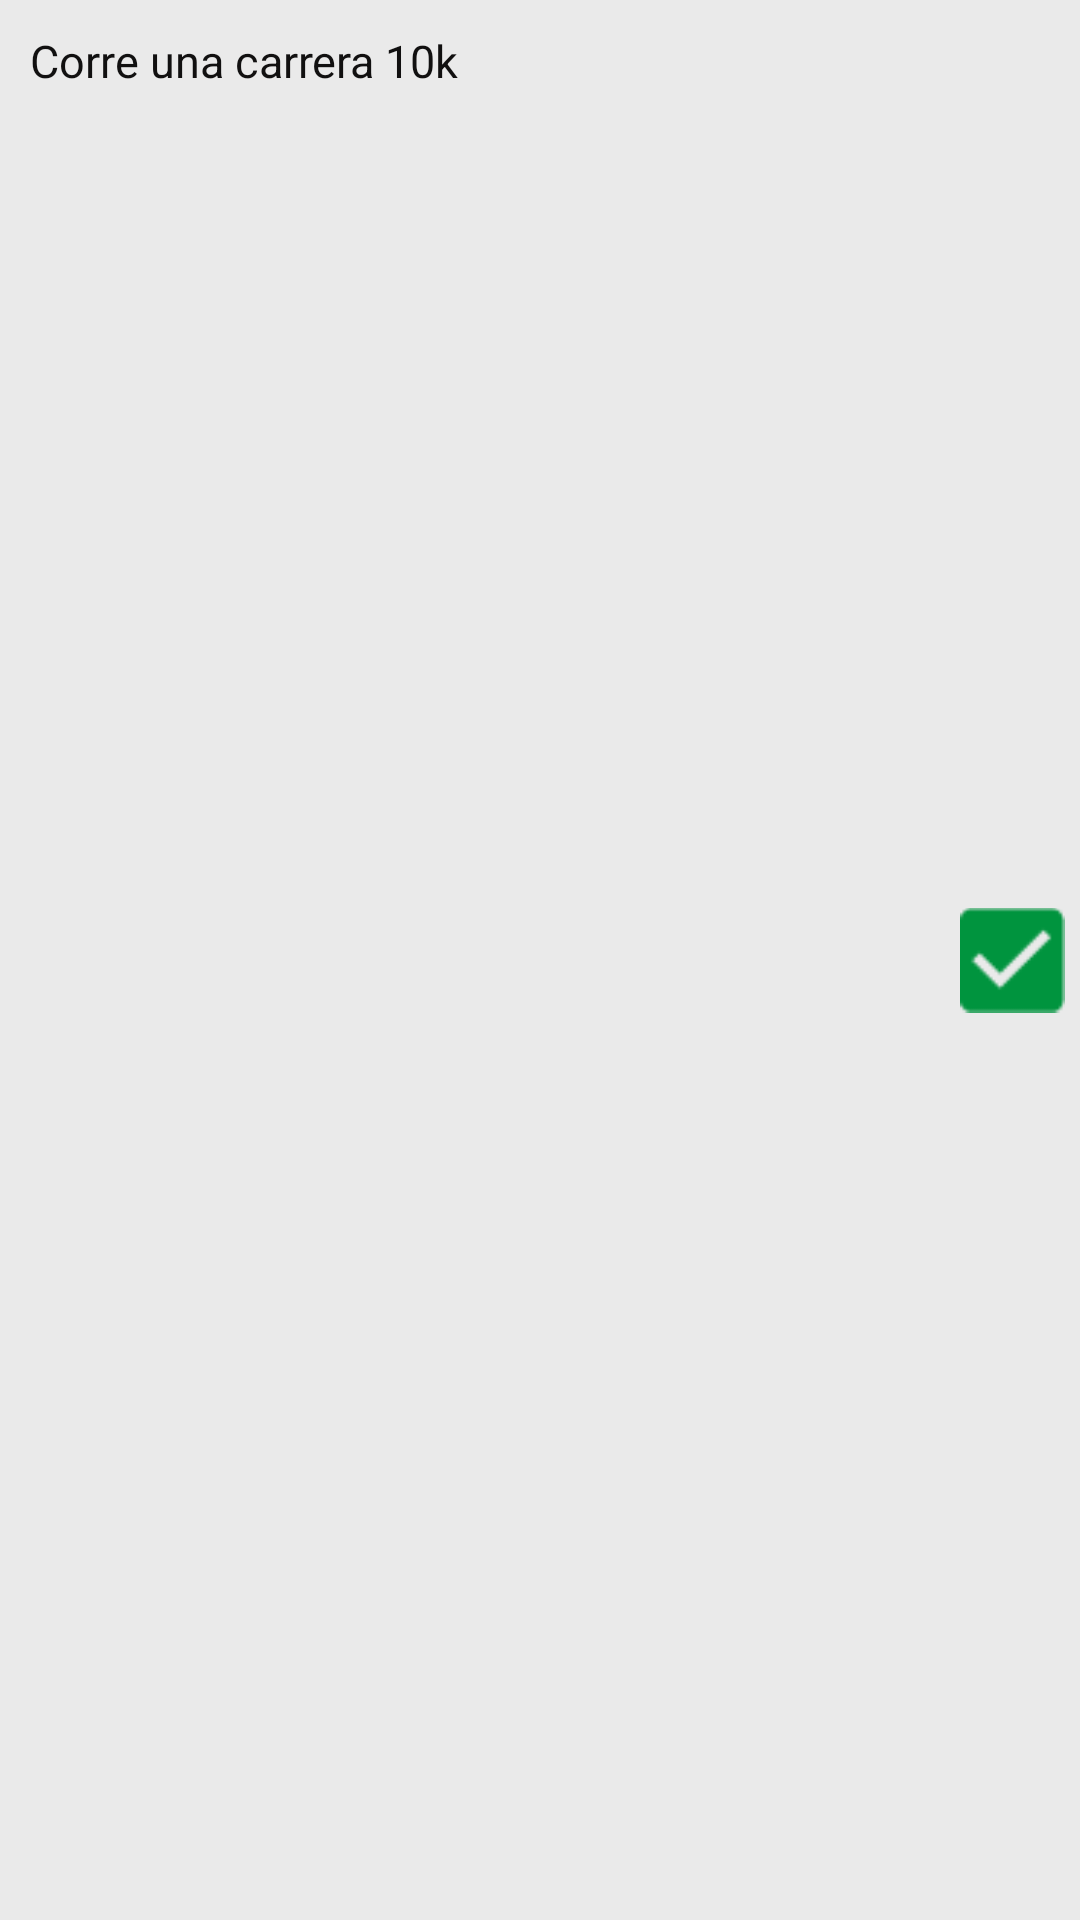

Icon click points for this 1080x1920 phone screenshot, format point (x, y):
activo: point (1012, 960)
